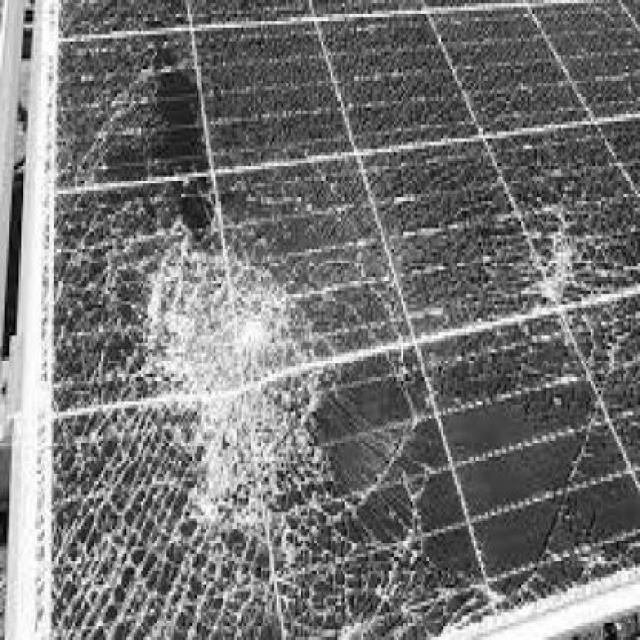Anomaly Solar Panel: (23, 0, 69, 320)
Structural Damage: (53, 59, 413, 639), (485, 189, 620, 356), (520, 522, 640, 586)
